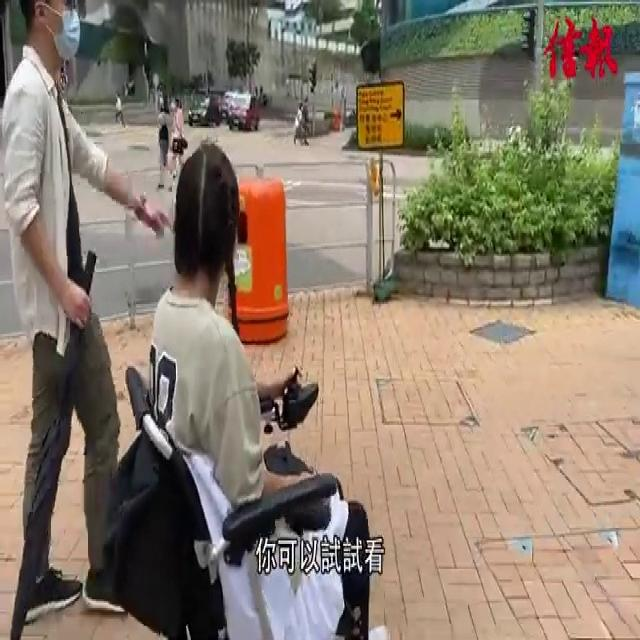wheelchairs: (82, 323, 402, 640)
